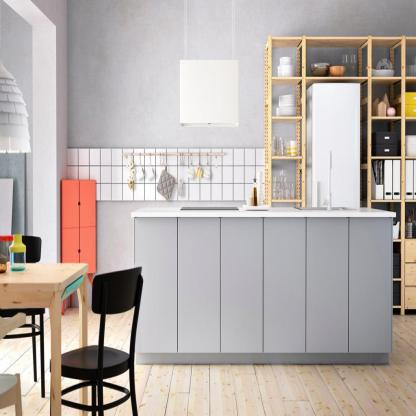Chair: (48, 263, 145, 416)
Table: (0, 260, 89, 416)
